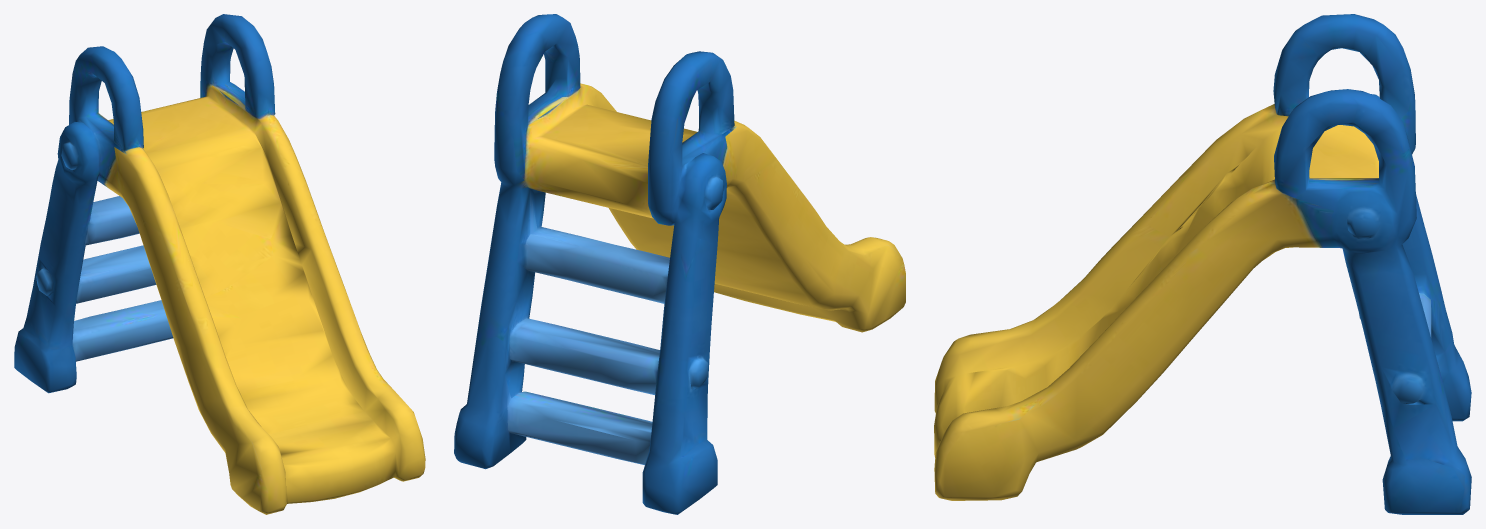
File: slide.glb
3 renders of one model, left to right at view 1: azimuth 30°, elevation 25°; view 2: azimuth 150°, elevation 25°; view 3: azimuth 270°, elevation 25°, orthographic. The views are drawn at different scales.
Visible parts, largest first — view 1: model; view 2: model; view 3: model.
Part boxes in pixels (bbox=[...]): model: bbox=[14, 14, 425, 514]; model: bbox=[454, 14, 905, 514]; model: bbox=[934, 14, 1471, 514].
Size of the model in its own units: 0.9448 by 1.61 by 1.89.
1 material, 1 textured.
